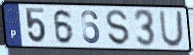3: (134, 8, 156, 49)
5: (23, 6, 47, 45)
6: (52, 8, 75, 46), (80, 9, 102, 45)
S: (105, 8, 131, 47)
U: (158, 9, 185, 48)
